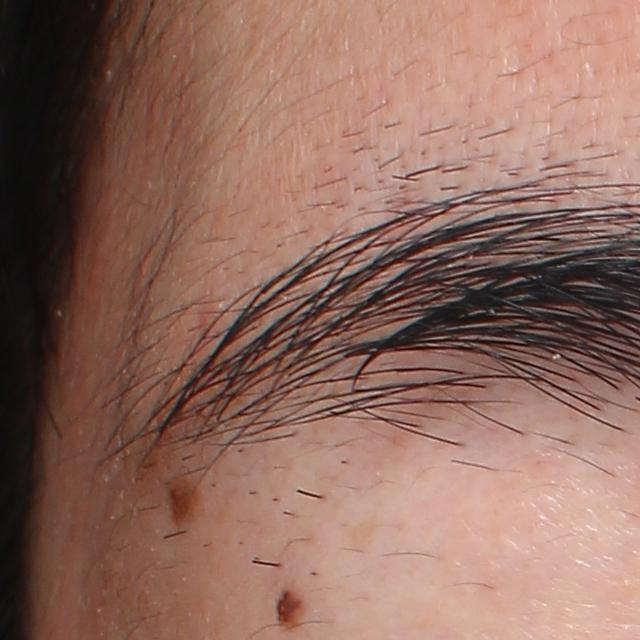nevus: (165, 467, 212, 533), (269, 580, 313, 629)
